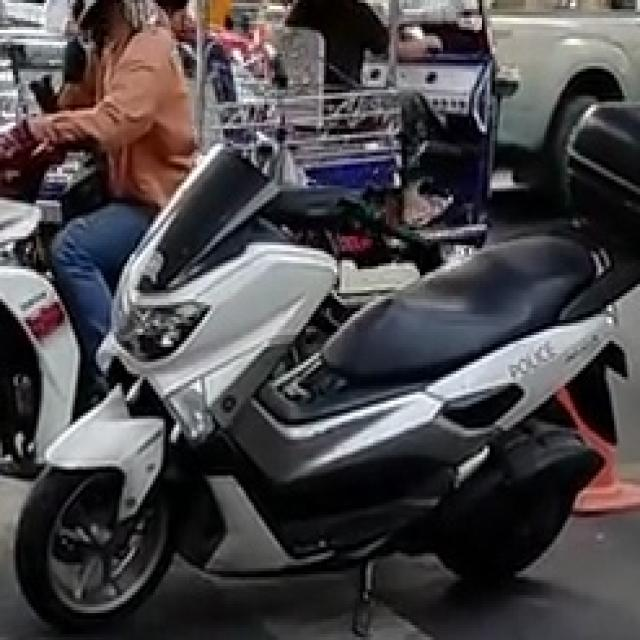door: (10, 96, 638, 634)
helmet: (67, 0, 153, 30)
tyre: (430, 416, 601, 583), (13, 458, 174, 631)
